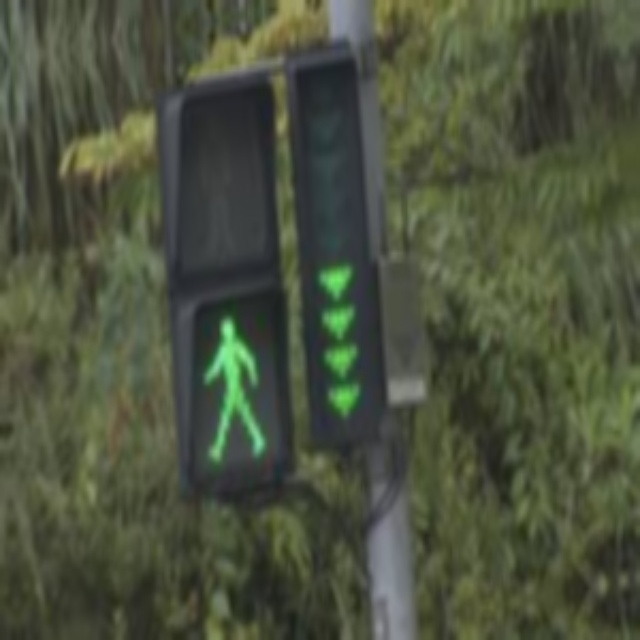green_light: (195, 307, 270, 472), (321, 378, 368, 425), (313, 261, 360, 302), (320, 340, 360, 378), (319, 302, 357, 341)
